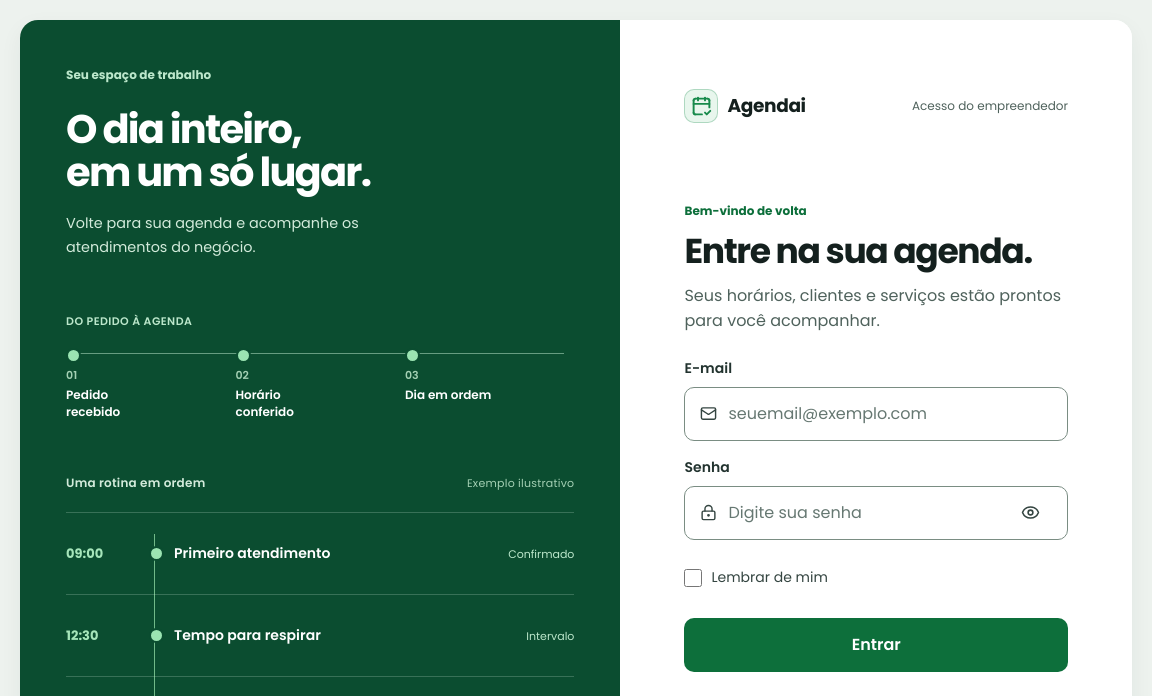
Login › impede envios repetidos enquanto a autenticacao esta em andamento
This screenshot has width=1152, height=696.
Type "pessoa@exemplo.com" into the field labelled "E-mail" at (890,414), box [728, 388, 1052, 440]
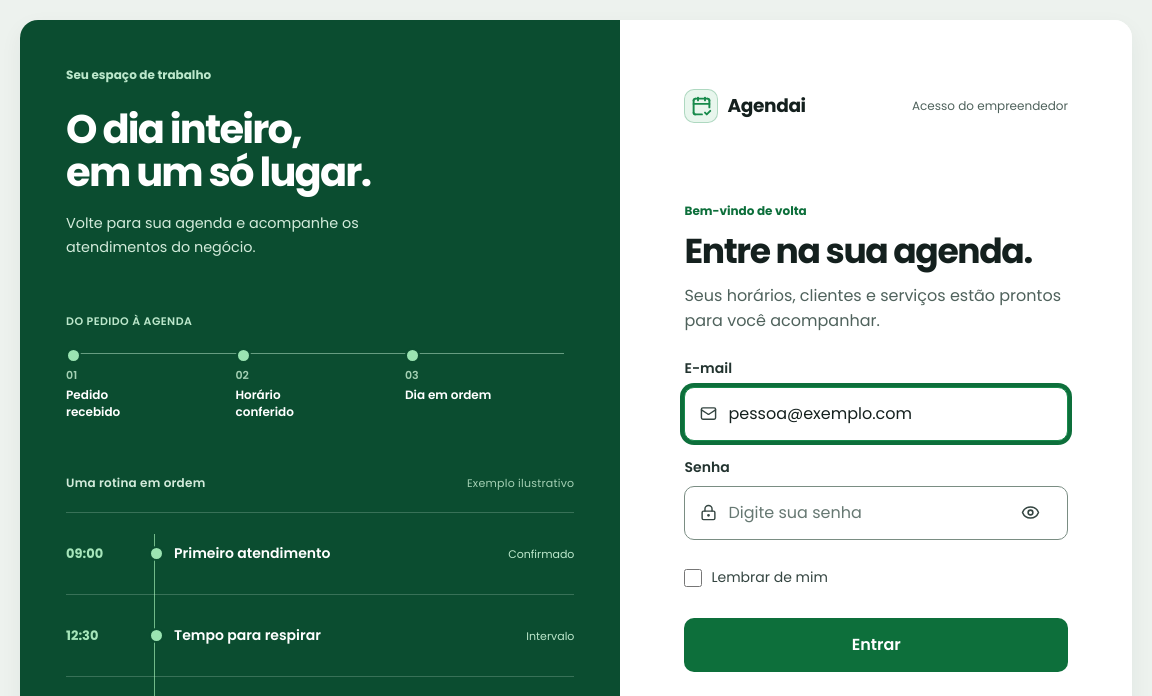
Type "senha-segura" into the password field labelled "Senha" at (863,513), box [728, 487, 997, 539]
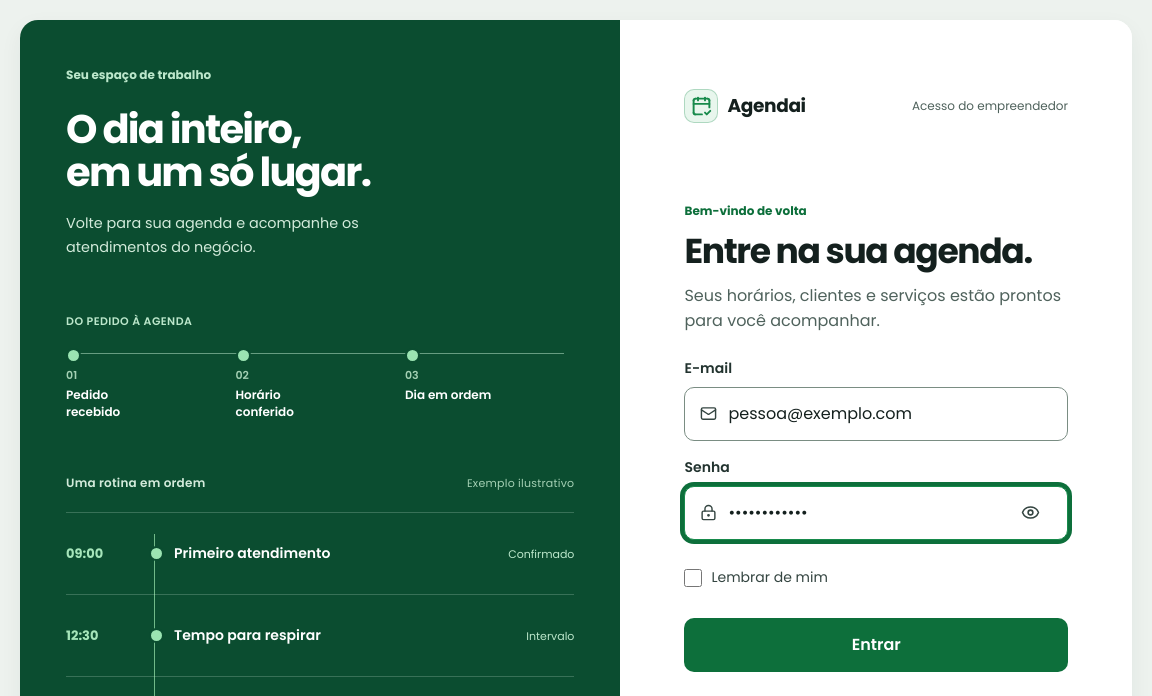
Double-click the button "Entrar" at (876,645), box [684, 618, 1068, 672]
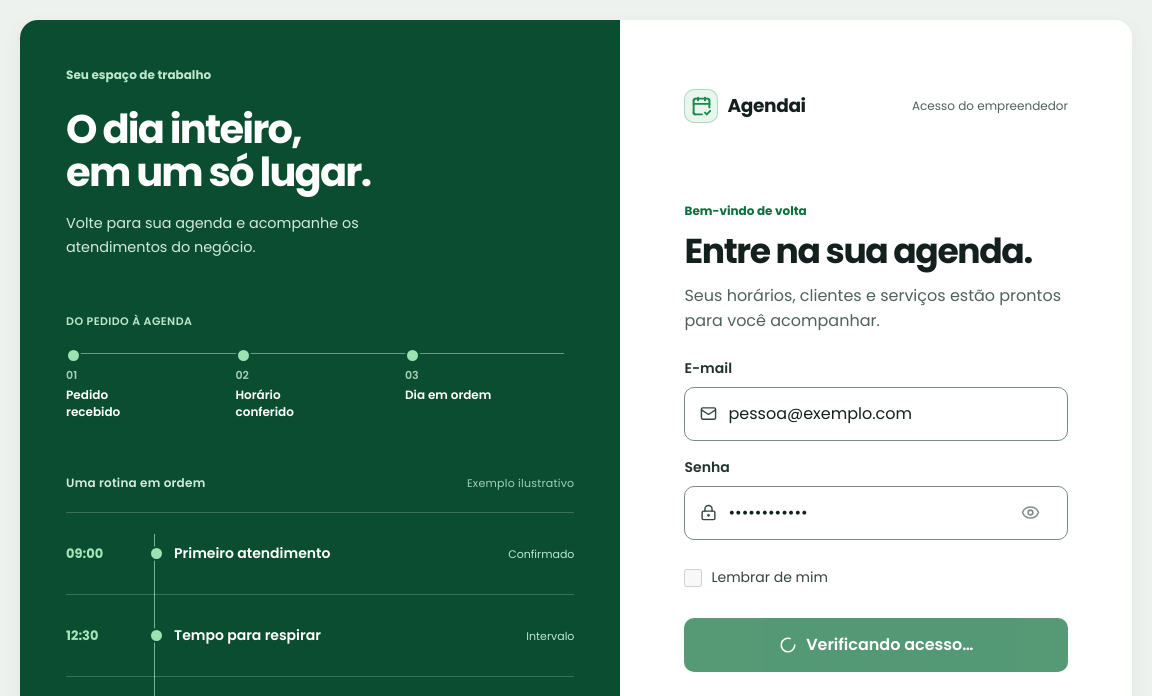
Now the button "Verificando acesso…" is disabled, box [684, 618, 1068, 672]
